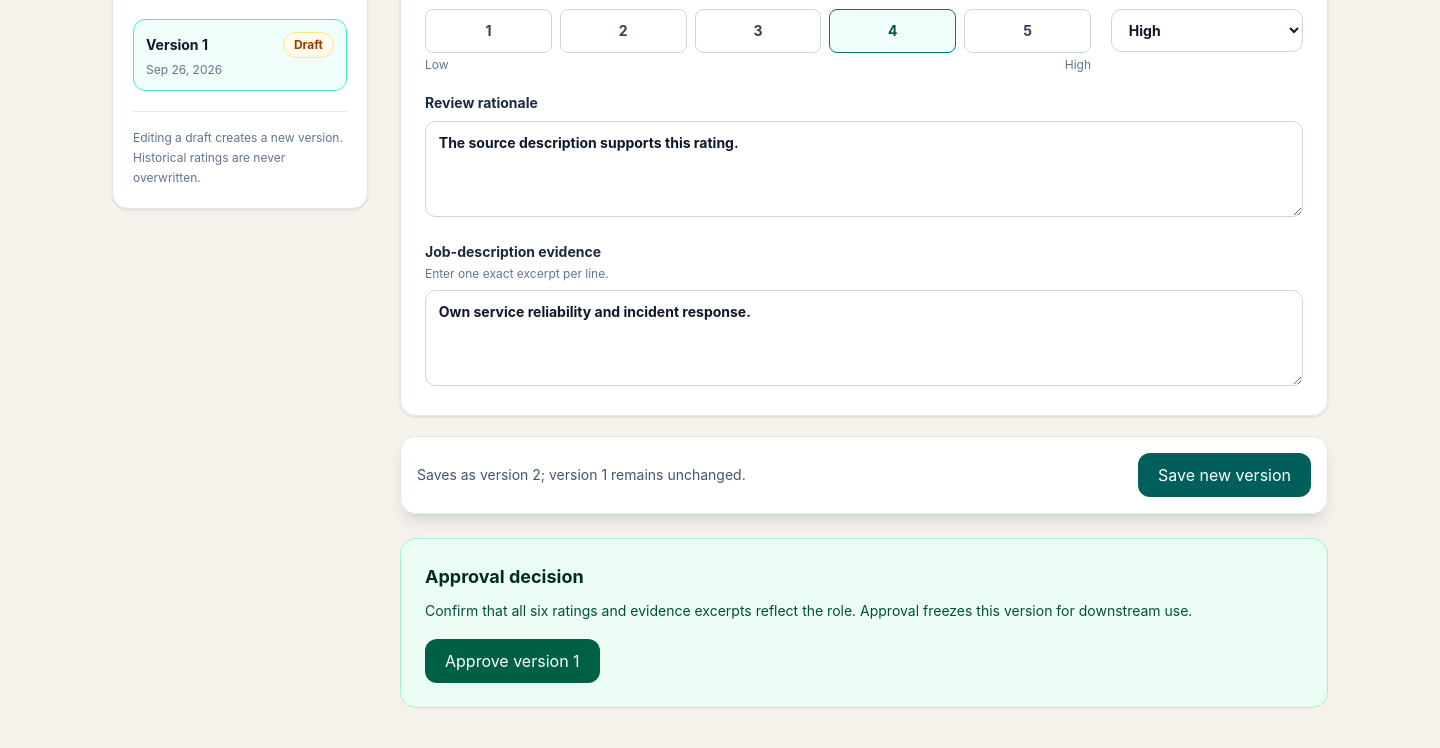
Test: RoleProfileWorkspace › exposes approval only to the manager and refreshes the frozen version
(page scrolled)
Click the button "Approve version 1" at coordinates (512, 661), box top-left (425, 639), bottom-right (600, 683)
(page scrolled)
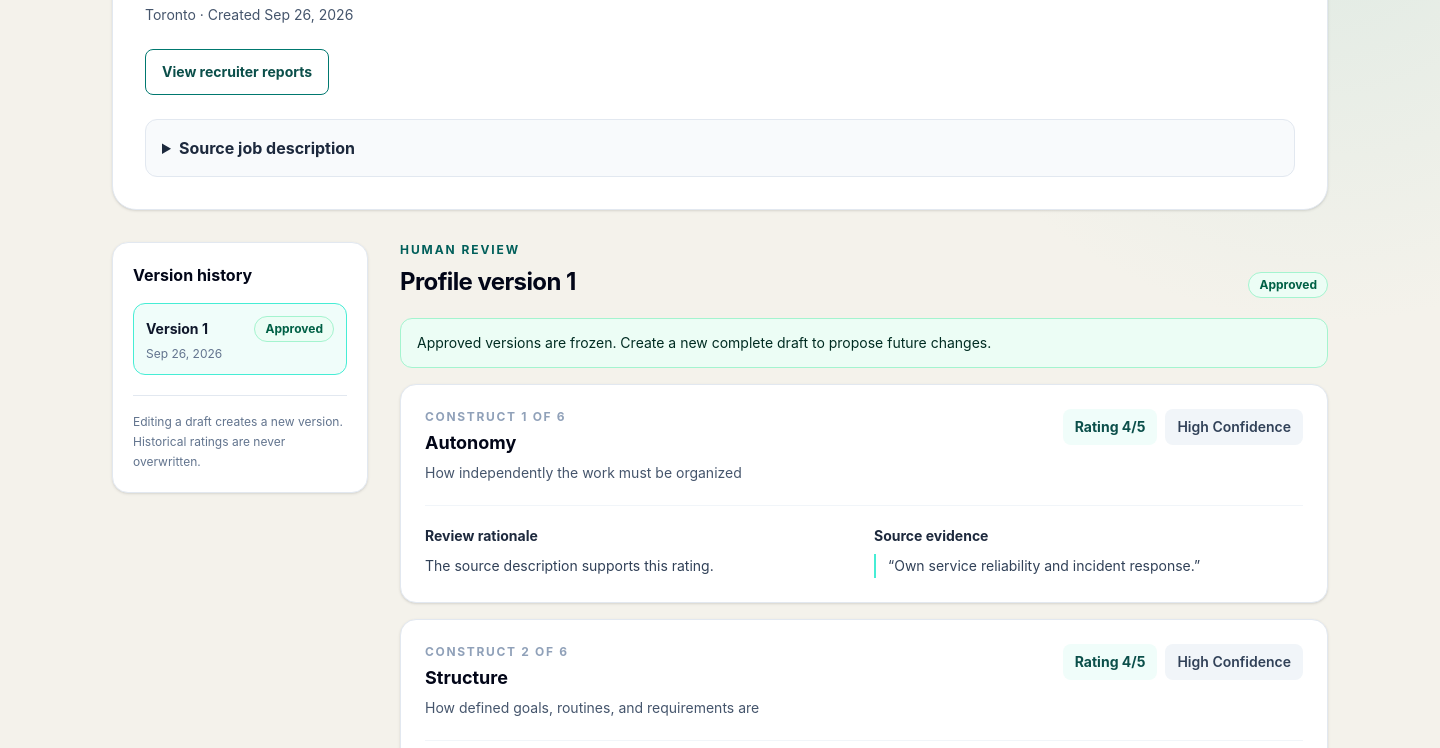
Check: the text "Approved versions are frozen" is shown, box top-left (417, 334), bottom-right (991, 351)
Check: the button "Approve version 1" is gone
